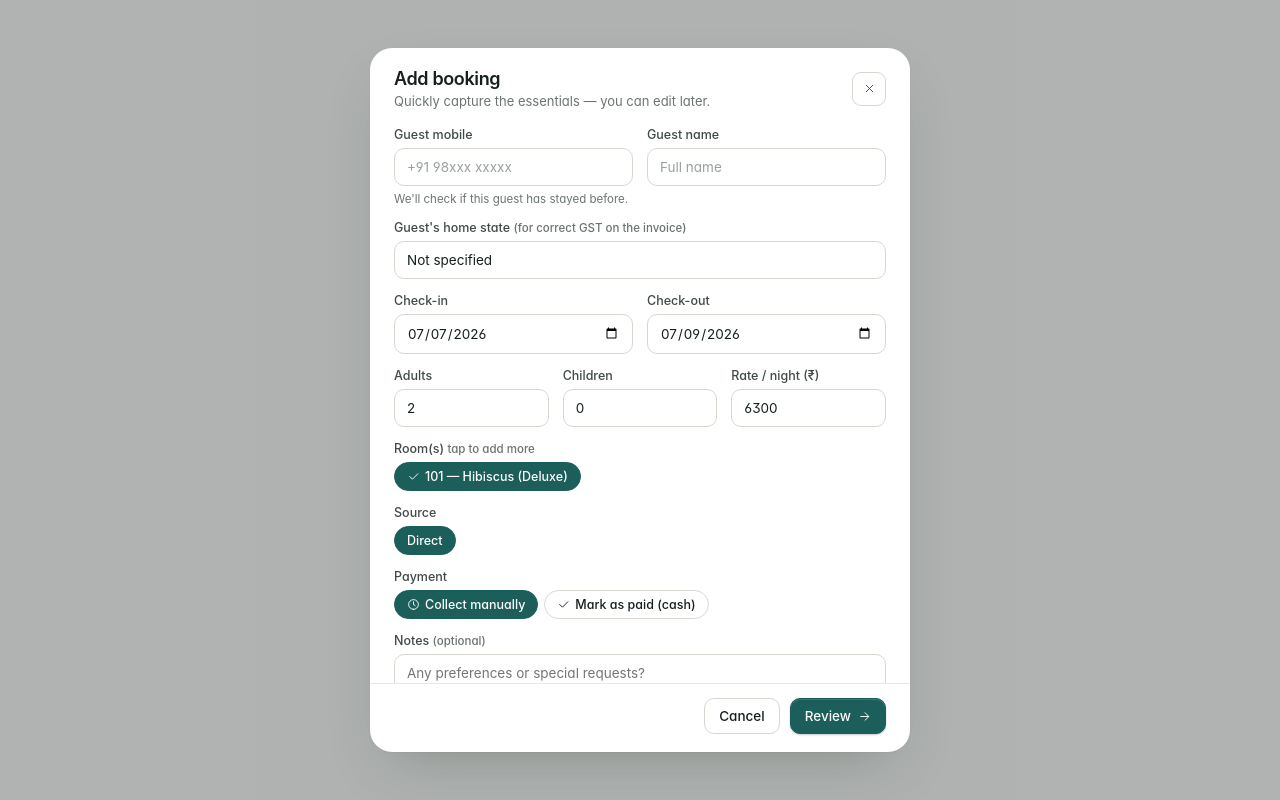
Test: QuickAdd extra interactions › lets the user pick a payment option and go back from review
Click the button "Mark as paid (cash)".
click(626, 604)  # box left=544, top=590, right=708, bottom=619
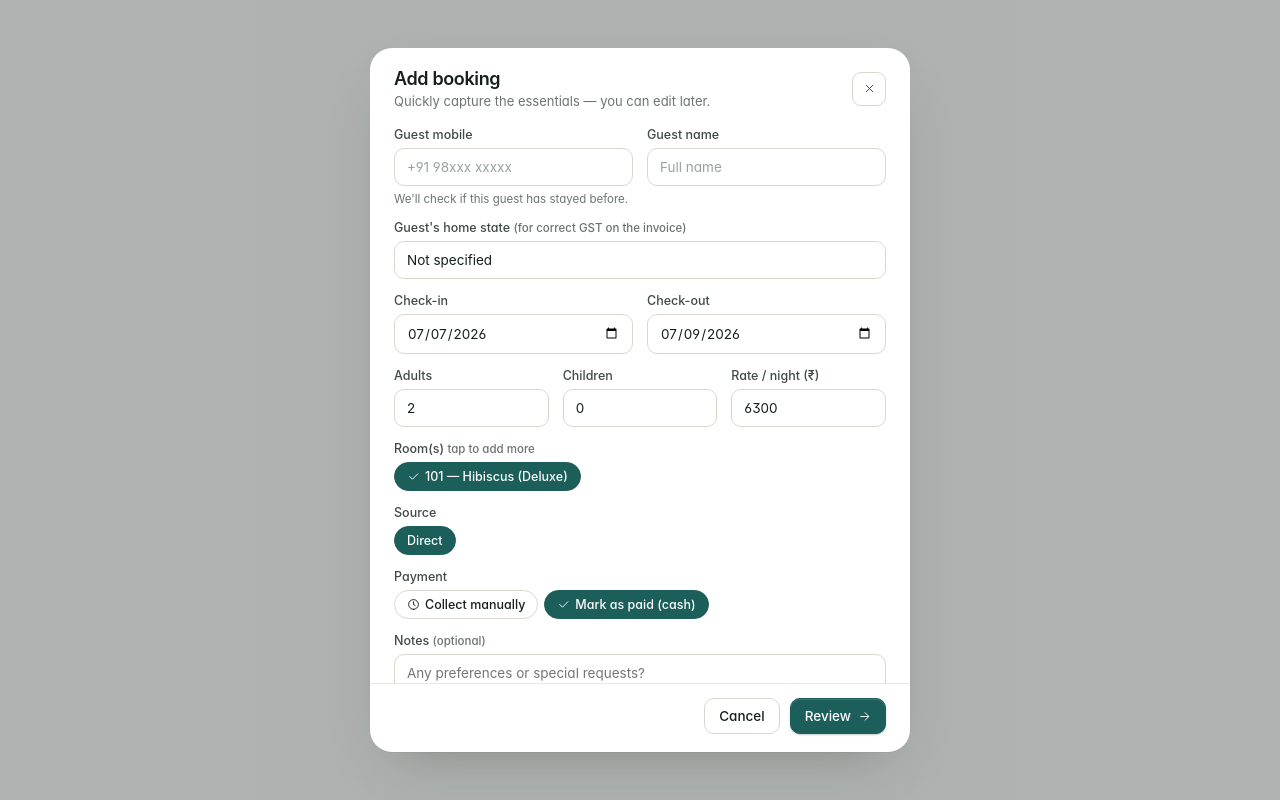
Type "+919812300000" into the field with placeholder "+91 98xxx xxxxx".
click(514, 167); type("+919812300000")  # box left=394, top=148, right=633, bottom=186
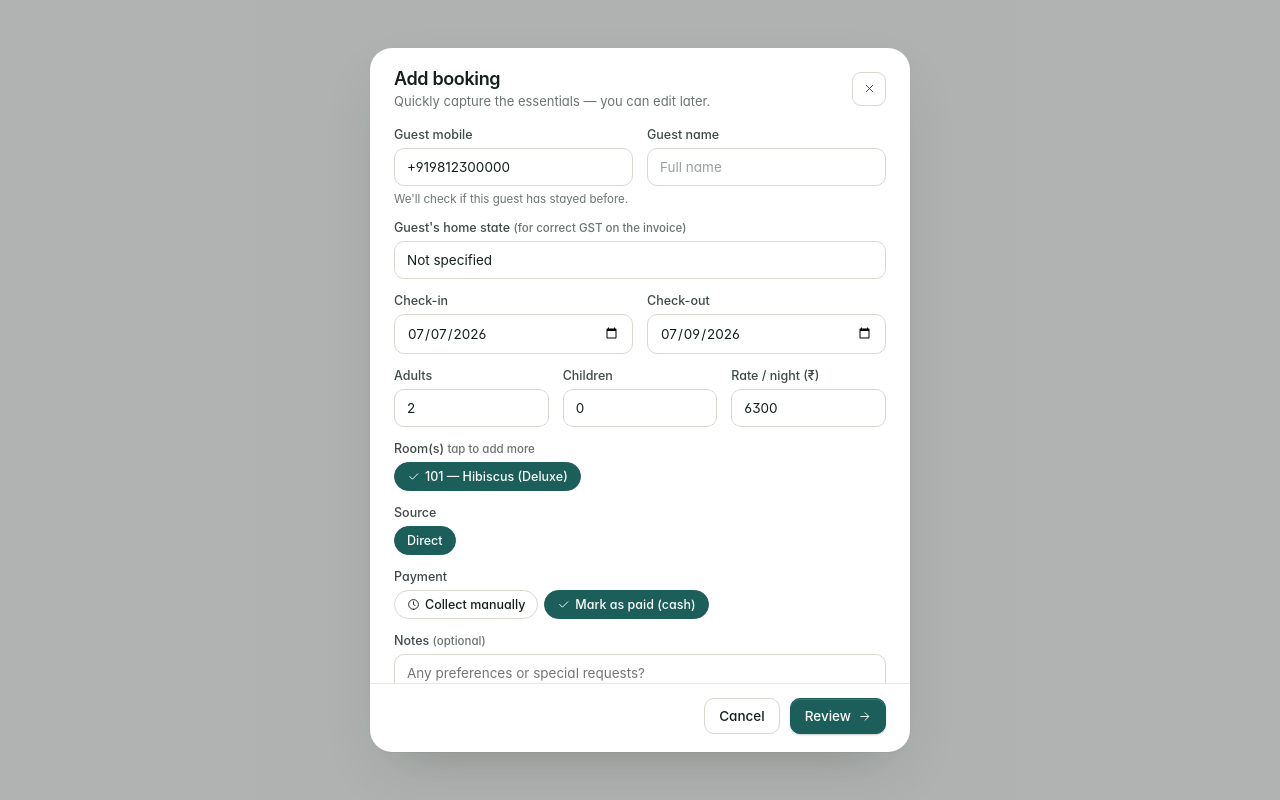
Type "Sameer" into the field with placeholder "Full name".
click(766, 167); type("Sameer")  # box left=647, top=148, right=886, bottom=186
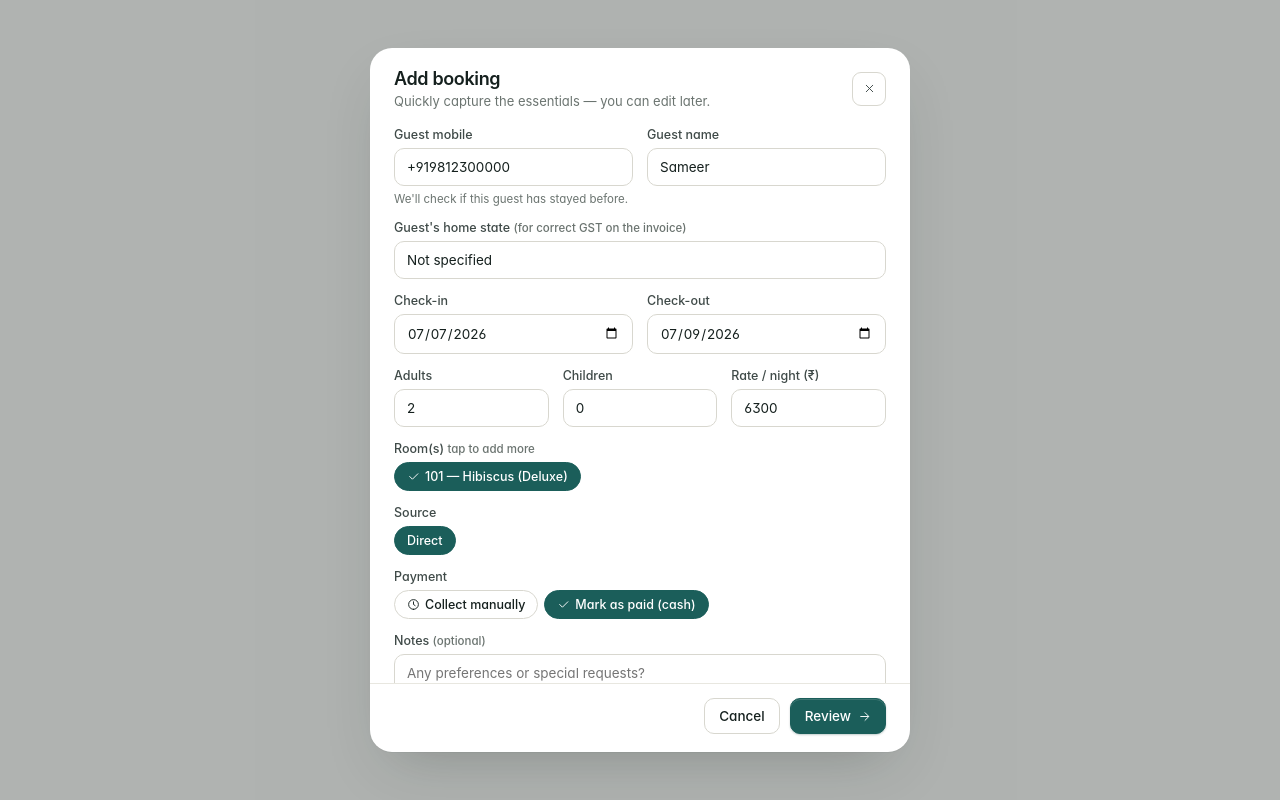
Click the button "Review".
click(838, 716)  # box left=790, top=698, right=886, bottom=734
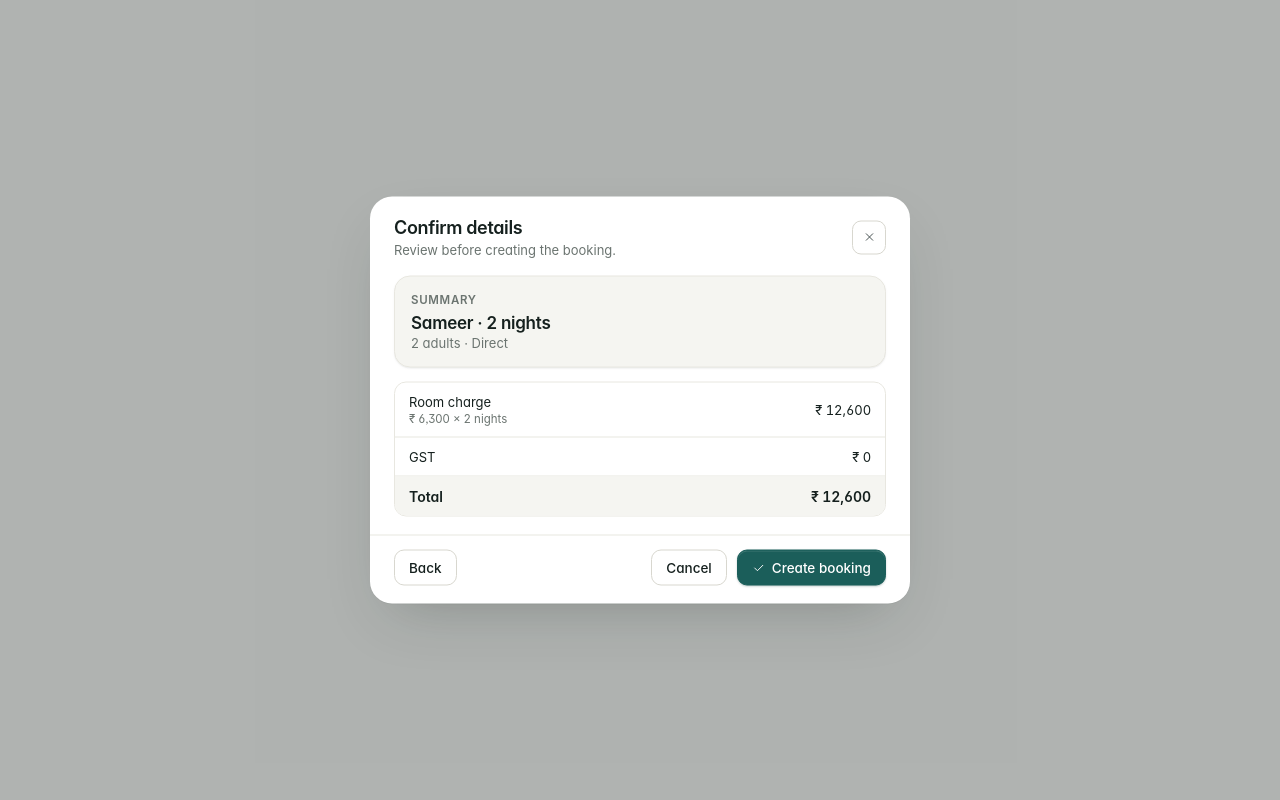
expect the heading "Confirm details" is shown: met, box left=394, top=216, right=522, bottom=238
Click the button "Back".
click(425, 568)  # box left=394, top=550, right=457, bottom=586
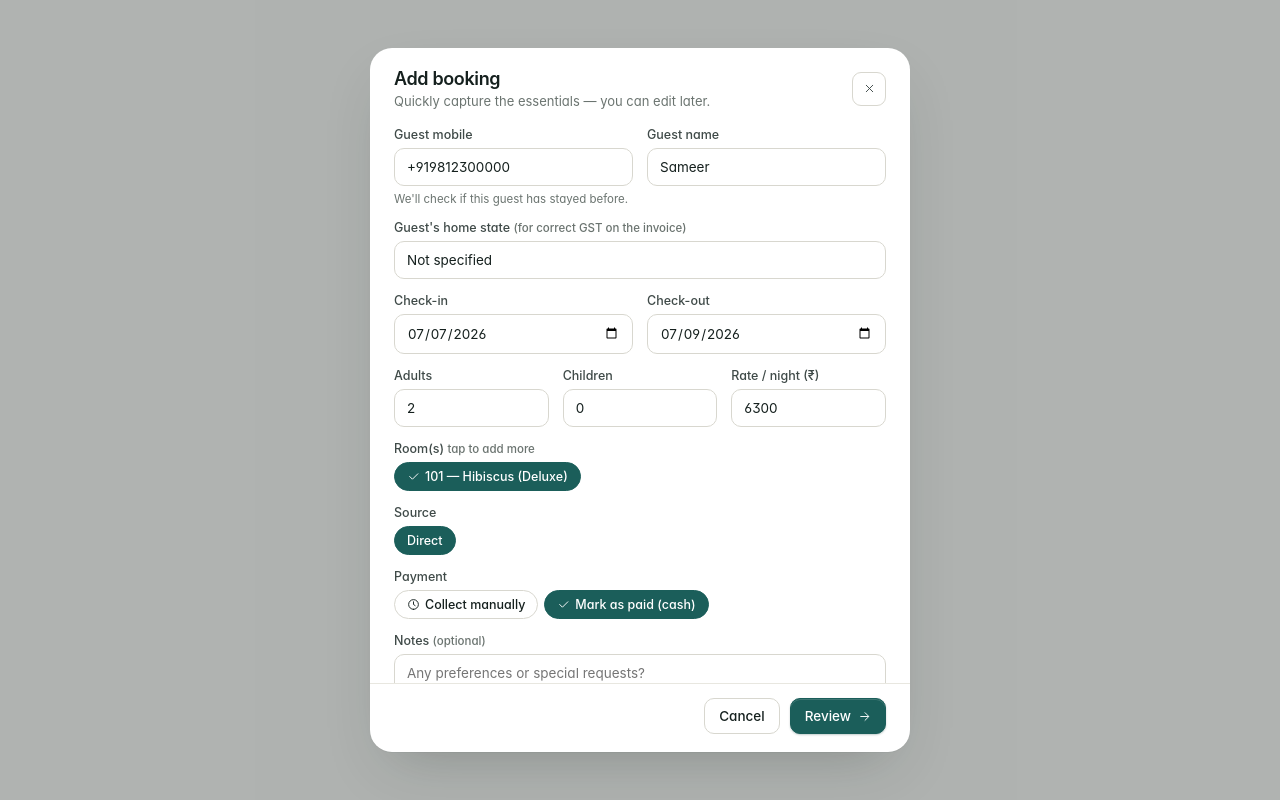
expect the heading "Add booking" is shown: met, box left=394, top=68, right=500, bottom=89
